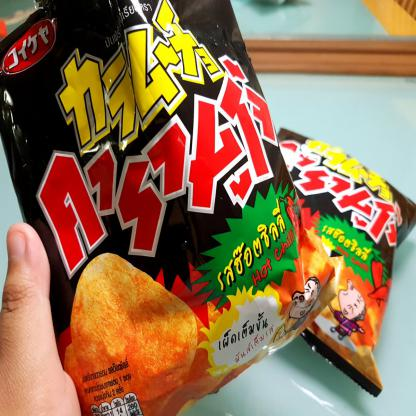potatochip: (0, 0, 341, 416), (228, 118, 416, 402)
